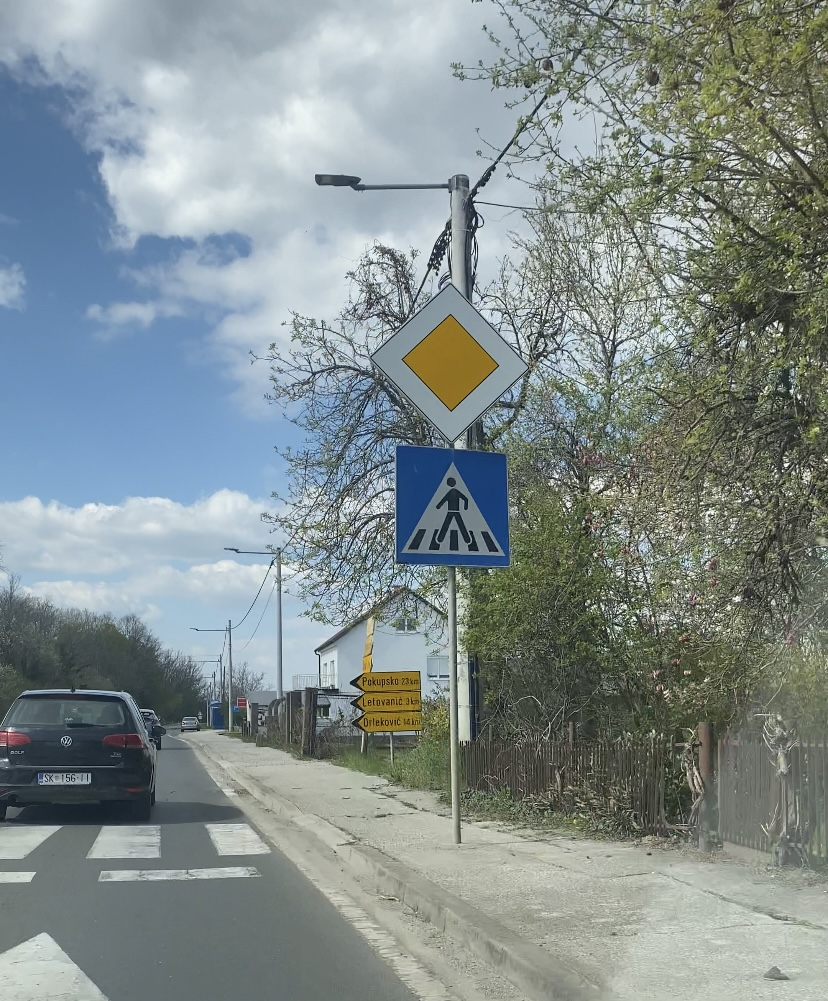Cesta s prednošću prolaska: (369, 283, 529, 445)
Pješački prijelaz: (396, 445, 510, 568)
